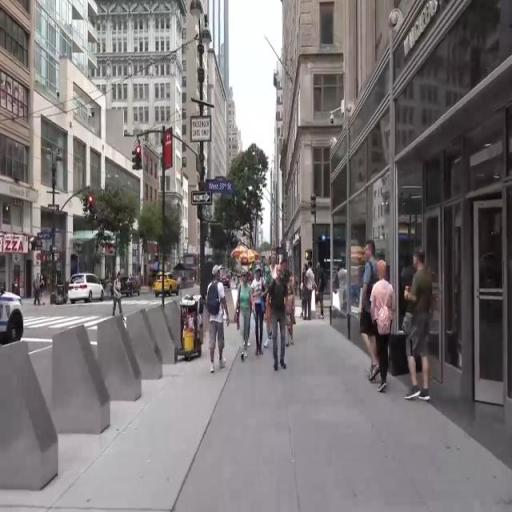person: (399, 253, 434, 412), (358, 232, 380, 363), (207, 257, 232, 368), (375, 265, 395, 400), (272, 269, 287, 363), (239, 265, 252, 363), (256, 262, 269, 348), (304, 261, 317, 327), (317, 256, 330, 317), (114, 272, 128, 320), (286, 267, 295, 341), (34, 271, 40, 307), (41, 276, 47, 312), (271, 249, 276, 290)
